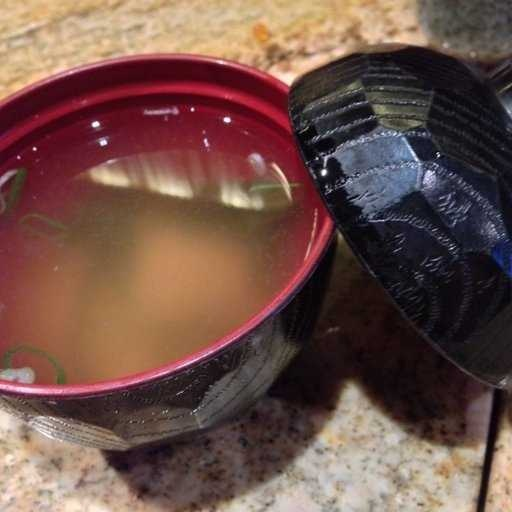soup: (19, 59, 324, 460)
